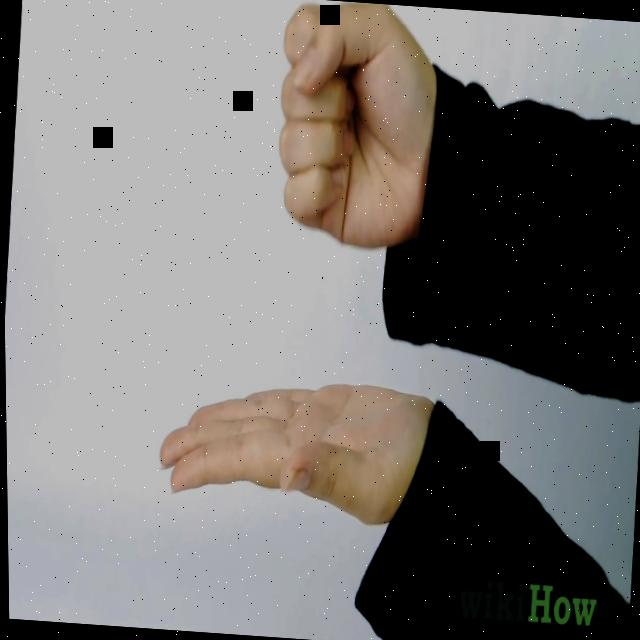Rock: (266, 0, 441, 254)
